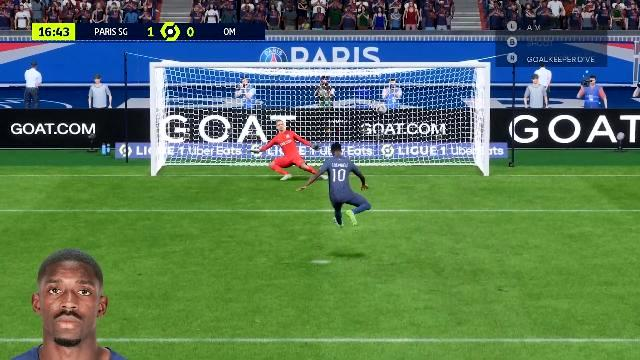bottom-left: (160, 126, 262, 178)
bottom-right: (369, 127, 479, 178)
center-down: (264, 127, 368, 179)
center-up: (264, 72, 368, 127)
football: (373, 105, 392, 117)
goalkeeper: (278, 114, 328, 180)
player: (300, 141, 372, 228)
top-left: (160, 70, 262, 126)
top-right: (369, 70, 479, 126)
